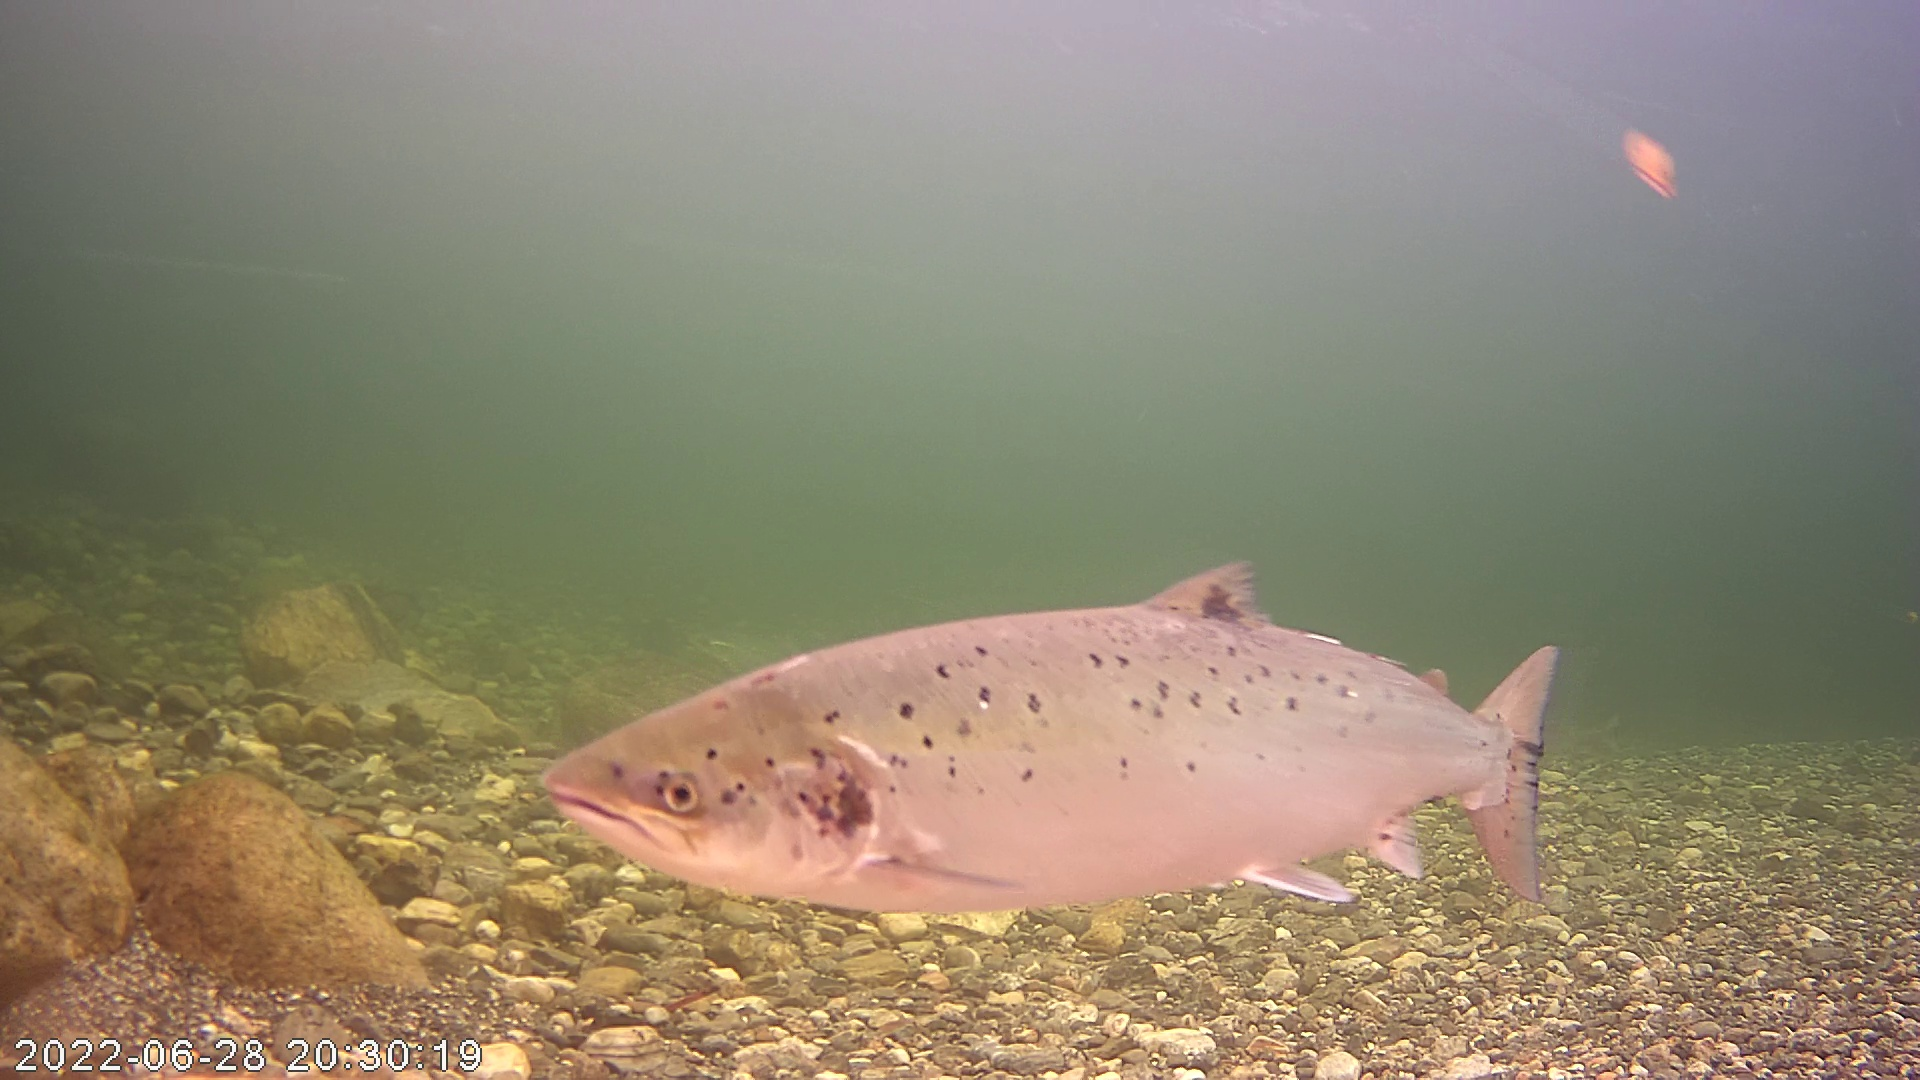salmon: (541, 508, 1586, 910)
